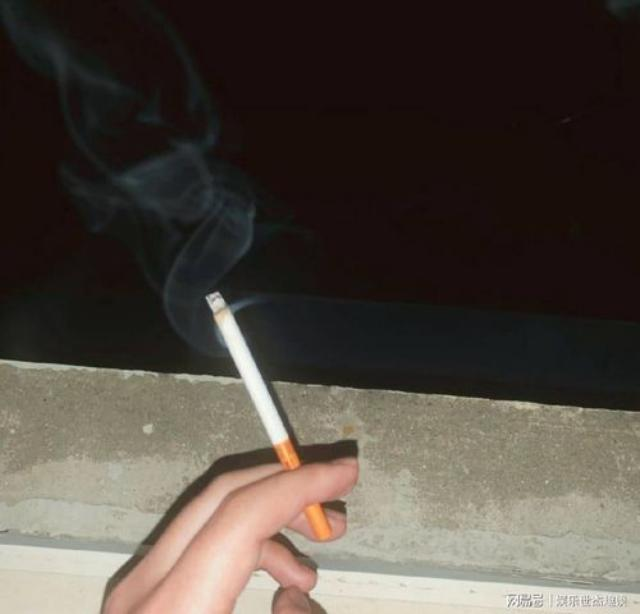Cigarette: (206, 292, 334, 542)
